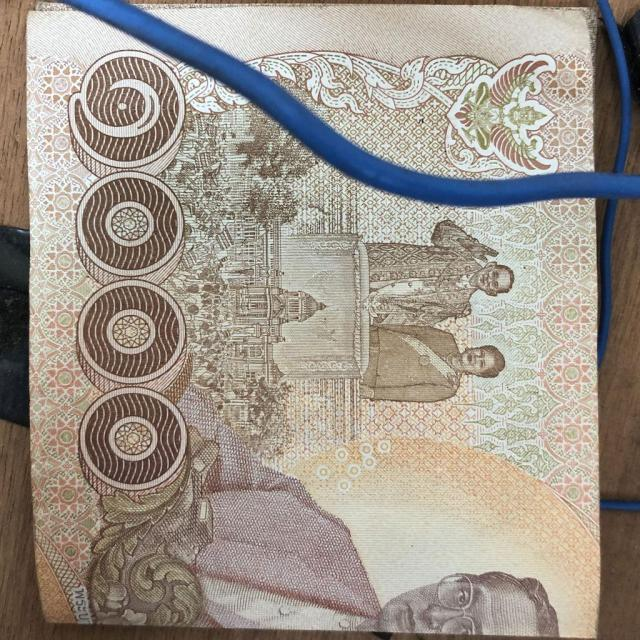THAI1000: (28, 3, 600, 636), (142, 5, 596, 178)
